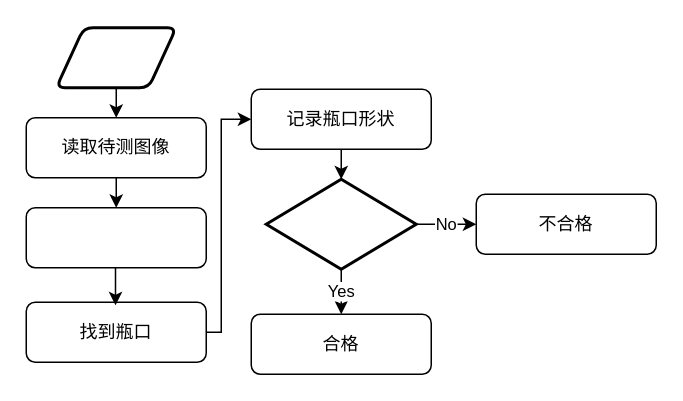
Image size: 683x401. Some labels were removed from this diagram. The centre of each missing label's shape, as x and y in pixels:
二值化: point 115,237
开始: point 115,57
形状是否 符合要求: point 340,223
